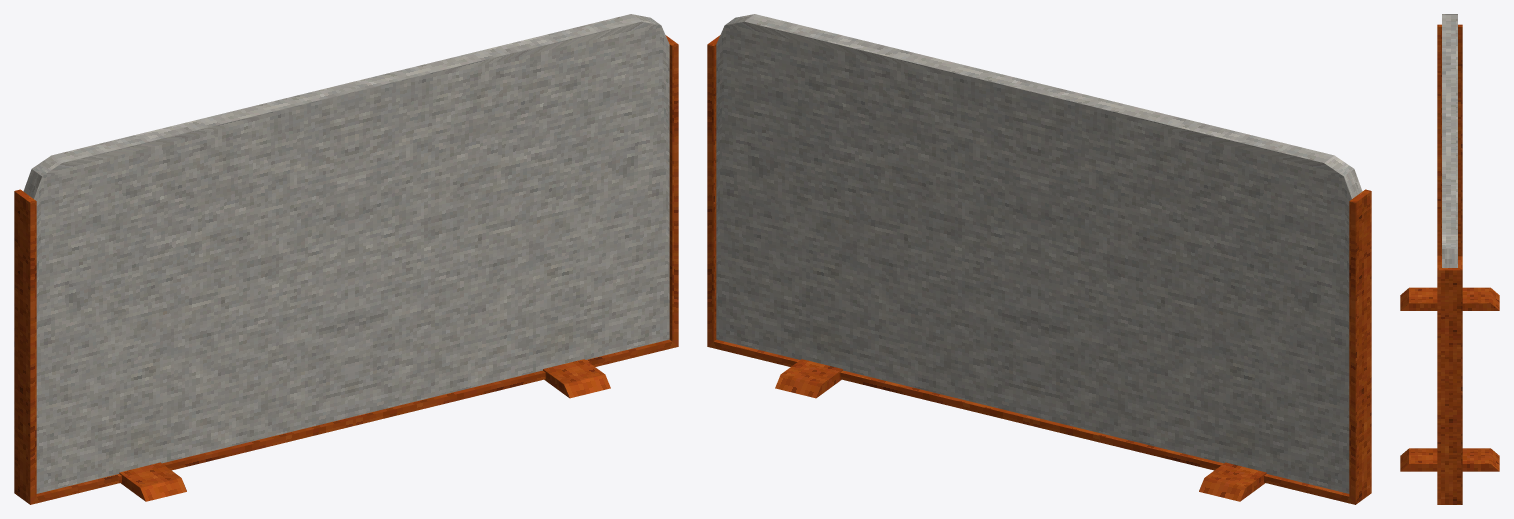
Rendered from divider_veneer_low.glb.
3 views of the same model, side by side, from view 1: azimuth 30°, elevation 25°; view 2: azimuth 150°, elevation 25°; view 3: azimuth 270°, elevation 25° (orthographic). The views are drawn at different scales.
Visible parts, largest first — view 1: divider_veneer_low; view 2: divider_veneer_low; view 3: divider_veneer_low.
Boxes of the visible parts, <box> form: divider_veneer_low: <box>14,14,678,504</box>; divider_veneer_low: <box>707,14,1371,504</box>; divider_veneer_low: <box>1400,14,1499,504</box>.
Bounding box in the file's own units: 3.06 × 1.5 × 0.523.
Materials: 1 (1 with a texture image).
